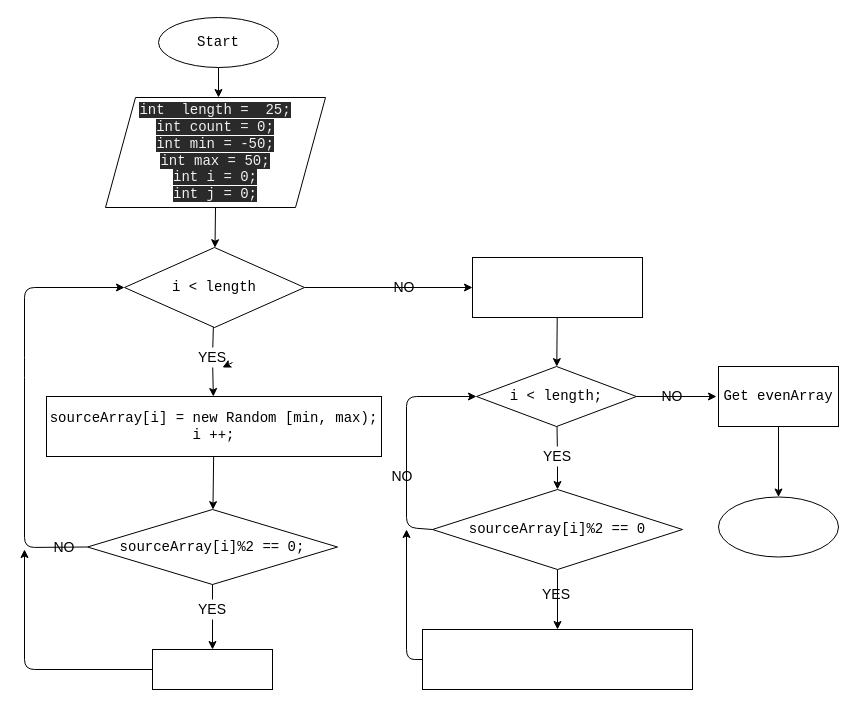
Some shapes in this 856 by 707 pixel diagram are drawn without their labels. The shapes that lost their labels are listed below. From the top down, each one's box as (x1, y1, x2, y2) in pixels, then its label:
(472, 256, 642, 318): Get sourceArray
(718, 496, 838, 557): END
(152, 648, 272, 690): Count ++
(422, 628, 692, 690): evenArray[j] = sourceArray[i]; j++
